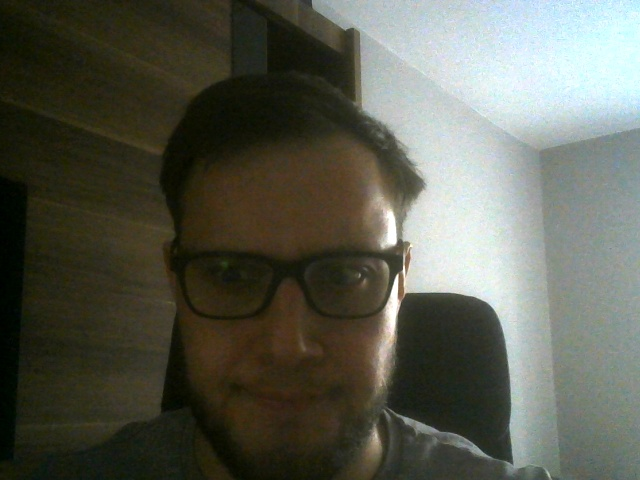angry: (160, 72, 416, 474)
